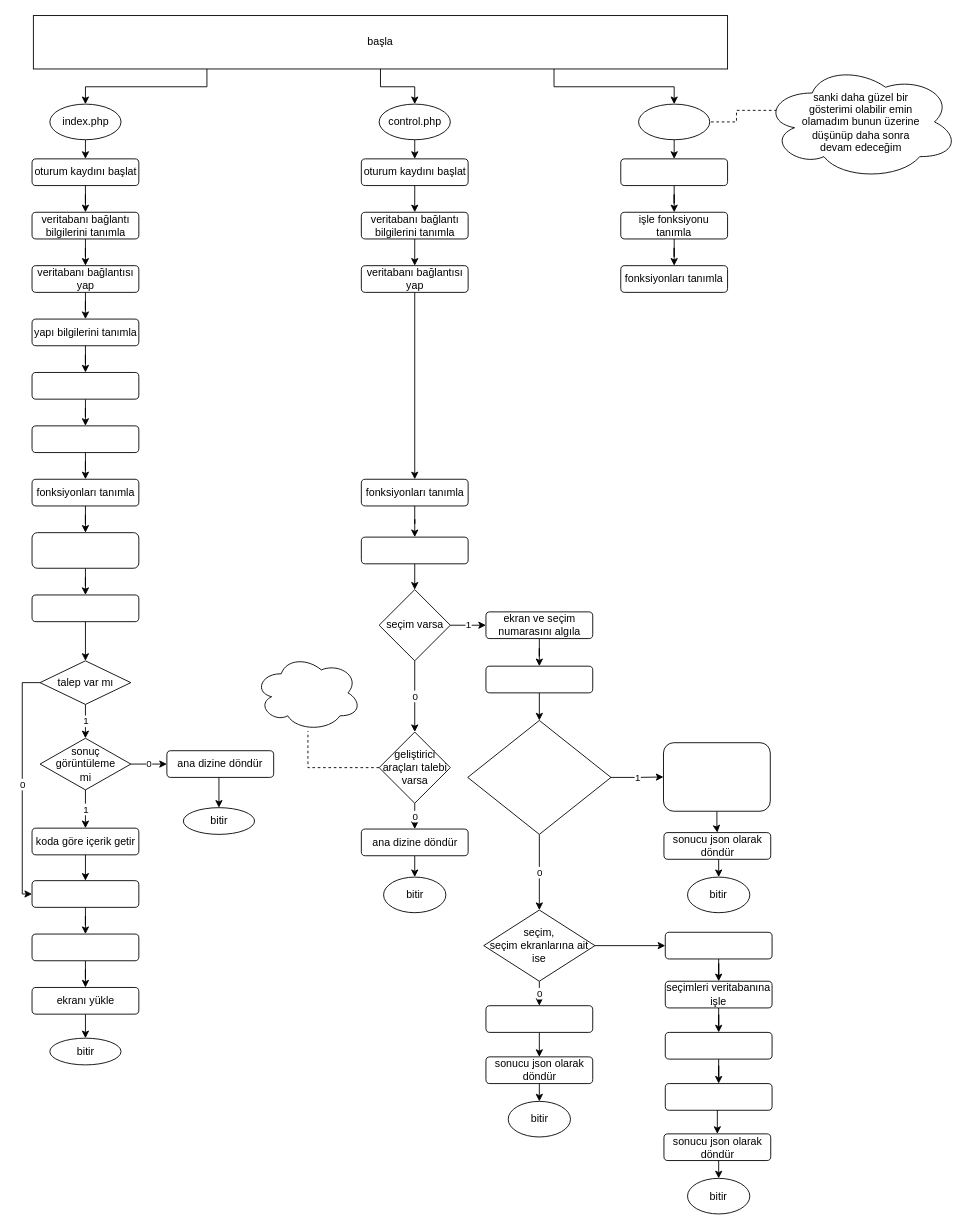
The diagram is 975 pixels wide and 1230 high, and some of its shapes have lost their labels. The centre of each missing label's shape, as x and y in pixels:
aksiyon-veri kayıtlarını ekran ve seçim numarasına göre veritabanından çek: the point at 716,776
dil seçimi yokla: the point at 85,893
diyagrama göre yorum satırları geliştirilecek: the point at 307,692
ekran numarasına göre içeriği getir: the point at 718,1045
ekran numarasını tanımla: the point at 718,945
ekranı tanımla: the point at 85,947
http taleplerini index.php ye topla: the point at 85,608
index.js: the point at 674,121
içerik bilgilerini tanımla: the point at 85,385
kontrolleri tanımla: the point at 414,550
kullanıcıya hata gösterimini pasifleştir: the point at 85,439
seçim fonksiyonu tanımla: the point at 674,172
seçim, kontrol butonları veya sonuç gösterim ekranı butonlarına aitse ise: the point at 539,777
seçimi oturum kaydına kaydet: the point at 539,679
sonuç görüntüleme ekranı içeriği getir: the point at 718,1096
sonuç yazdırma fonksiyonlarını tanımla: the point at 85,550
test içeriklerini tanımla: the point at 539,1018
